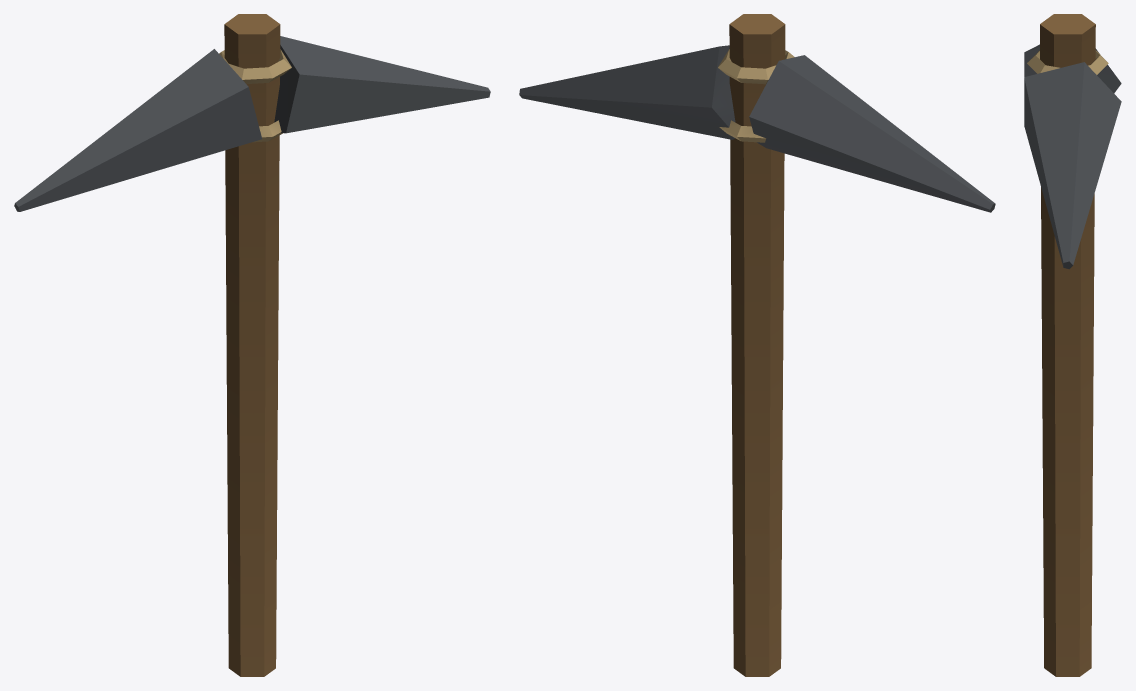
Rendered from Pickaxe.fbx.
3 views of the same model, side by side, from view 1: azimuth 30°, elevation 25°; view 2: azimuth 150°, elevation 25°; view 3: azimuth 270°, elevation 25° (orthographic).
Parts seen in each view (by area): view 1: Pickaxe; view 2: Pickaxe; view 3: Pickaxe.
Part boxes in pixels (<box>): Pickaxe: <box>14,14,490,676</box>; Pickaxe: <box>519,14,995,676</box>; Pickaxe: <box>1024,14,1121,676</box>.
Bounding box in the file's own units: 0.5074 × 0.66 × 0.0905.
